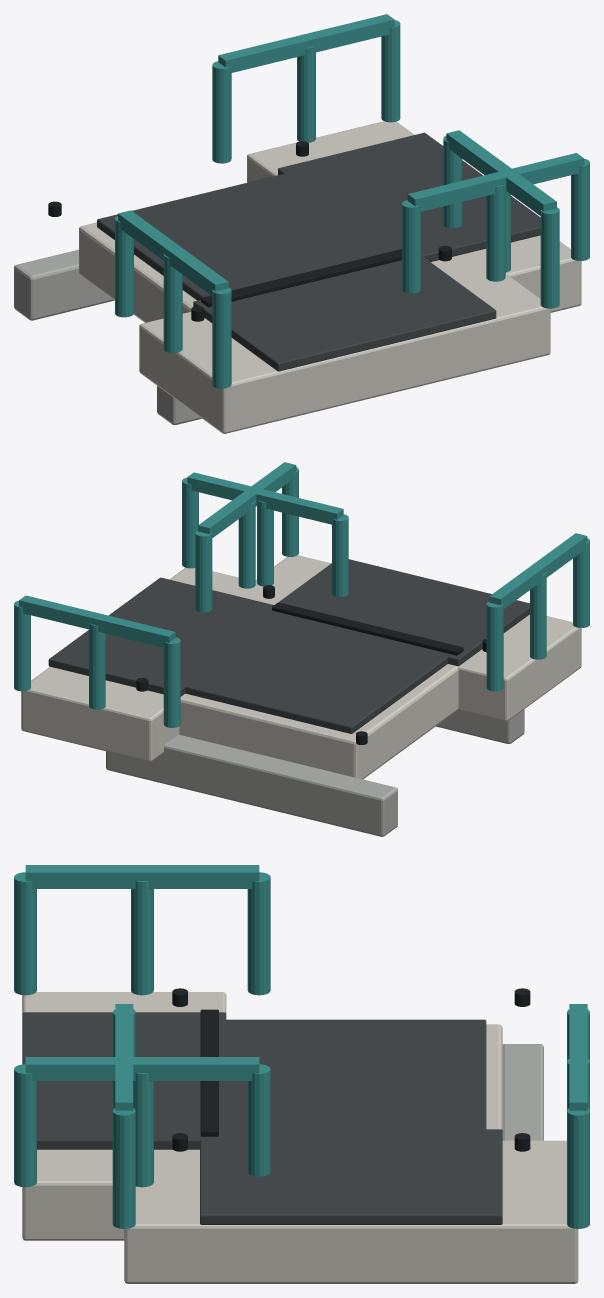
Rendered from BRG_LOCAL_DECK_1x1_CORNER.glb.
3 renders of one model, top to bottom at view 1: azimuth 30°, elevation 25°; view 2: azimuth 150°, elevation 25°; view 3: azimuth 270°, elevation 25°, orthographic. The views are drawn at different scales.
Visible parts, largest first — view 1: BRG_LOCAL_DECK_1x1_CORNER_Visual; view 2: BRG_LOCAL_DECK_1x1_CORNER_Visual; view 3: BRG_LOCAL_DECK_1x1_CORNER_Visual.
Part boxes in pixels (x1,y1,x2,y2): BRG_LOCAL_DECK_1x1_CORNER_Visual: (14, 14, 589, 433); BRG_LOCAL_DECK_1x1_CORNER_Visual: (14, 462, 589, 836); BRG_LOCAL_DECK_1x1_CORNER_Visual: (14, 865, 589, 1283).
Size of what is drawn, in the model's own units: 1.75 by 0.7475 by 1.75.
